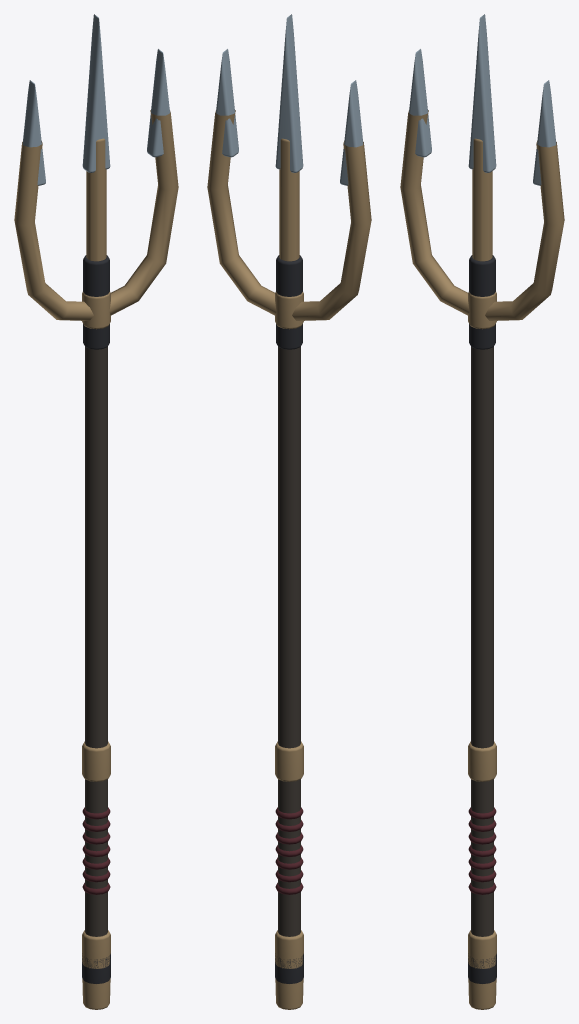
Rendered from abyssal-crown.glb.
3 renders of one model, left to right at view 1: azimuth 30°, elevation 25°; view 2: azimuth 150°, elevation 25°; view 3: azimuth 330°, elevation 25°, orthographic.
Visible parts, largest first — view 1: Walnut haft.005, Trident shoulders, Trident tine.001, Central trident stem, Trident unified neck, Trident tine.002, Trident tine, Brass ferrule.016, Brass ferrule.015, Brass ferrule.017, Trident brass foot, Fitted bottom socket.003; view 2: Walnut haft.005, Trident shoulders, Trident tine.001, Central trident stem, Trident unified neck, Trident tine.002, Trident tine, Brass ferrule.016, Brass ferrule.015, Brass ferrule.017, Trident brass foot, Fitted bottom socket.003; view 3: Walnut haft.005, Trident shoulders, Trident tine.001, Central trident stem, Trident unified neck, Trident tine, Trident tine.002, Brass ferrule.016, Brass ferrule.015, Brass ferrule.017, Trident brass foot, Fitted bottom socket.003.
Boxes of the visible parts, x1,y1,x2,y2 form: Walnut haft.005: [85, 346, 107, 936]; Trident shoulders: [14, 110, 178, 320]; Trident tine.001: [82, 14, 110, 172]; Central trident stem: [86, 138, 106, 261]; Trident unified neck: [83, 255, 109, 349]; Trident tine.002: [147, 49, 169, 157]; Trident tine: [22, 80, 45, 185]; Brass ferrule.016: [82, 741, 110, 781]; Brass ferrule.015: [82, 930, 110, 968]; Brass ferrule.017: [82, 292, 110, 329]; Trident brass foot: [82, 978, 110, 1009]; Fitted bottom socket.003: [82, 953, 110, 983]; Walnut haft.005: [278, 346, 300, 936]; Trident shoulders: [207, 110, 371, 320]; Trident tine.001: [275, 14, 303, 172]; Central trident stem: [279, 138, 299, 261]; Trident unified neck: [276, 255, 302, 349]; Trident tine.002: [216, 49, 238, 157]; Trident tine: [340, 80, 363, 185]; Brass ferrule.016: [275, 741, 303, 781]; Brass ferrule.015: [275, 930, 303, 968]; Brass ferrule.017: [275, 292, 303, 329]; Trident brass foot: [275, 978, 303, 1009]; Fitted bottom socket.003: [275, 953, 303, 983]; Walnut haft.005: [471, 346, 493, 936]; Trident shoulders: [400, 110, 564, 320]; Trident tine.001: [468, 14, 496, 172]; Central trident stem: [472, 138, 492, 261]; Trident unified neck: [469, 255, 495, 349]; Trident tine: [409, 49, 431, 157]; Trident tine.002: [533, 80, 556, 185]; Brass ferrule.016: [468, 741, 496, 781]; Brass ferrule.015: [468, 930, 496, 968]; Brass ferrule.017: [468, 292, 496, 329]; Trident brass foot: [468, 978, 496, 1009]; Fitted bottom socket.003: [468, 953, 496, 983].
Bounding box in the file's own units: 0.4048 × 2.36 × 0.062.
